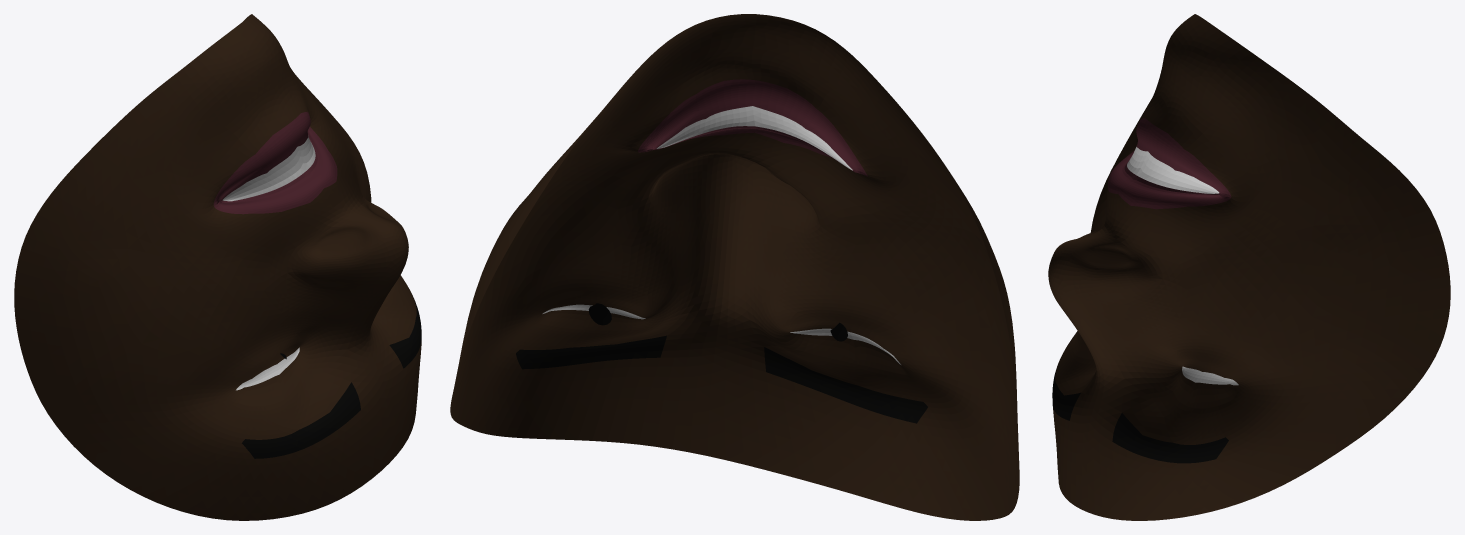
Rendered from frame_00196.obj.
3 renders of one model, left to right at view 1: azimuth 30°, elevation 25°; view 2: azimuth 150°, elevation 25°; view 3: azimuth 270°, elevation 25°, orthographic. The views are drawn at different scales.
Parts seen in each view (by area): view 1: face_mesh_subdivided; view 2: face_mesh_subdivided; view 3: face_mesh_subdivided.
Boxes of the visible parts, x1,y1,x2,y2 form: face_mesh_subdivided: (14, 14, 421, 520); face_mesh_subdivided: (450, 14, 1019, 520); face_mesh_subdivided: (1048, 14, 1450, 520).
Bounding box in the file's own units: 0.5018 × 0.523 × 0.4205.
